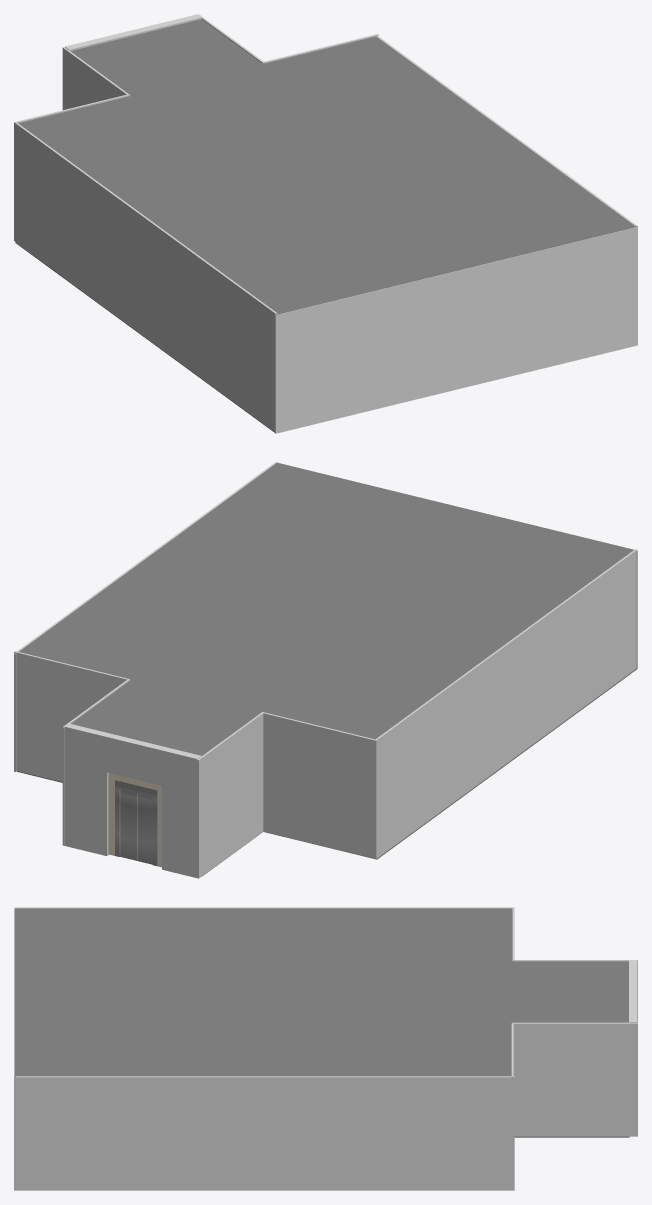
Rendered from first_level.glb.
The picture shows the model from 3 angles, top to bottom: view 1: azimuth 30°, elevation 25°; view 2: azimuth 150°, elevation 25°; view 3: azimuth 270°, elevation 25°; orthographic projection. The views are drawn at different scales.
Parts seen in each view (by area): view 1: Floor.007, Wall_Small.006, Wall_Small.004, Floor.008, Wall_Small.009, Wall_Standard_Door.002, Wall_Small.005; view 2: Floor.007, Wall_Small.004, Wall_Small.002, Wall_Standard_Door.002, Wall_Small.009, Wall_Small.007, Floor.008, right-door_Cube.002, wooden-frame_Cube.001, metallic-frame_Cube.001, Wall_Small.005, Floor.002 (+1 smaller); view 3: Floor.007, Wall_Small.005, Wall_Small.008, Floor.008, Wall_Small.004, Wall_Standard_Door.002, Wall_Small.007.
Boxes of the visible parts, left/top/right/bottom form: Floor.007: left=18, top=36, right=637, bottom=314; Wall_Small.006: left=274, top=226, right=637, bottom=433; Wall_Small.004: left=14, top=122, right=277, bottom=430; Floor.008: left=70, top=19, right=262, bottom=95; Wall_Small.009: left=62, top=47, right=130, bottom=109; Wall_Standard_Door.002: left=65, top=14, right=201, bottom=50; Wall_Small.005: left=376, top=36, right=637, bottom=226; Floor.007: left=19, top=462, right=633, bottom=739; Wall_Small.004: left=375, top=549, right=637, bottom=858; Wall_Small.002: left=262, top=712, right=375, bottom=858; Wall_Standard_Door.002: left=65, top=723, right=201, bottom=877; Wall_Small.009: left=197, top=712, right=263, bottom=878; Wall_Small.007: left=14, top=651, right=128, bottom=781; Floor.008: left=71, top=680, right=261, bottom=755; right-door_Cube.002: left=120, top=790, right=152, bottom=863; wooden-frame_Cube.001: left=108, top=773, right=161, bottom=867; metallic-frame_Cube.001: left=115, top=780, right=157, bottom=865; Wall_Small.005: left=14, top=462, right=275, bottom=771; Floor.002: left=17, top=669, right=636, bottom=859; Floor.007: left=14, top=908, right=512, bottom=1077; Wall_Small.005: left=15, top=1076, right=514, bottom=1190; Wall_Small.008: left=512, top=1022, right=637, bottom=1136; Floor.008: left=511, top=961, right=628, bottom=1022; Wall_Small.004: left=15, top=907, right=514, bottom=959; Wall_Standard_Door.002: left=629, top=960, right=637, bottom=1022; Wall_Small.007: left=511, top=1023, right=513, bottom=1189.
Bounding box in the file's own units: 9.55 × 3.1 × 14.87.
Materials: 6 (5 with a texture image).
